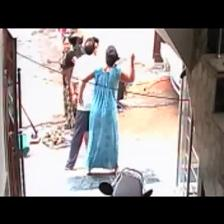person: (78, 46, 135, 174), (66, 84, 94, 170)
